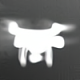plane: (2, 17, 76, 67)
